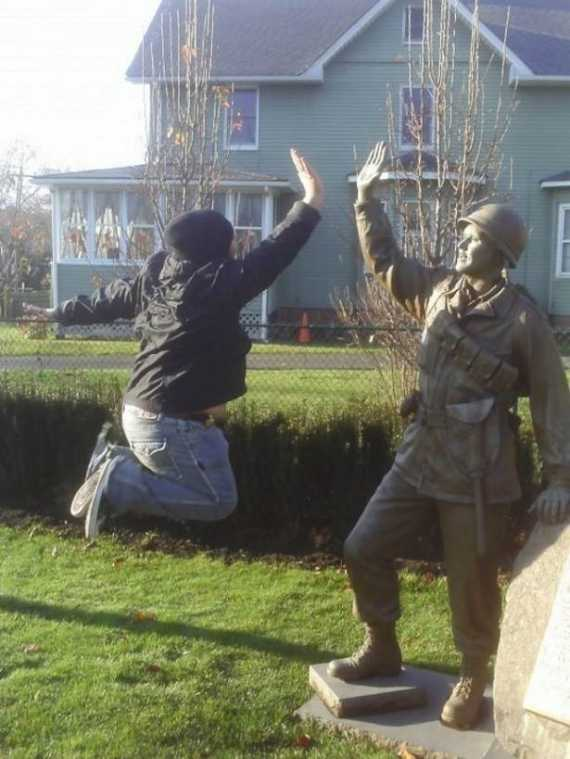person: (384, 206, 536, 412), (120, 202, 271, 394)
